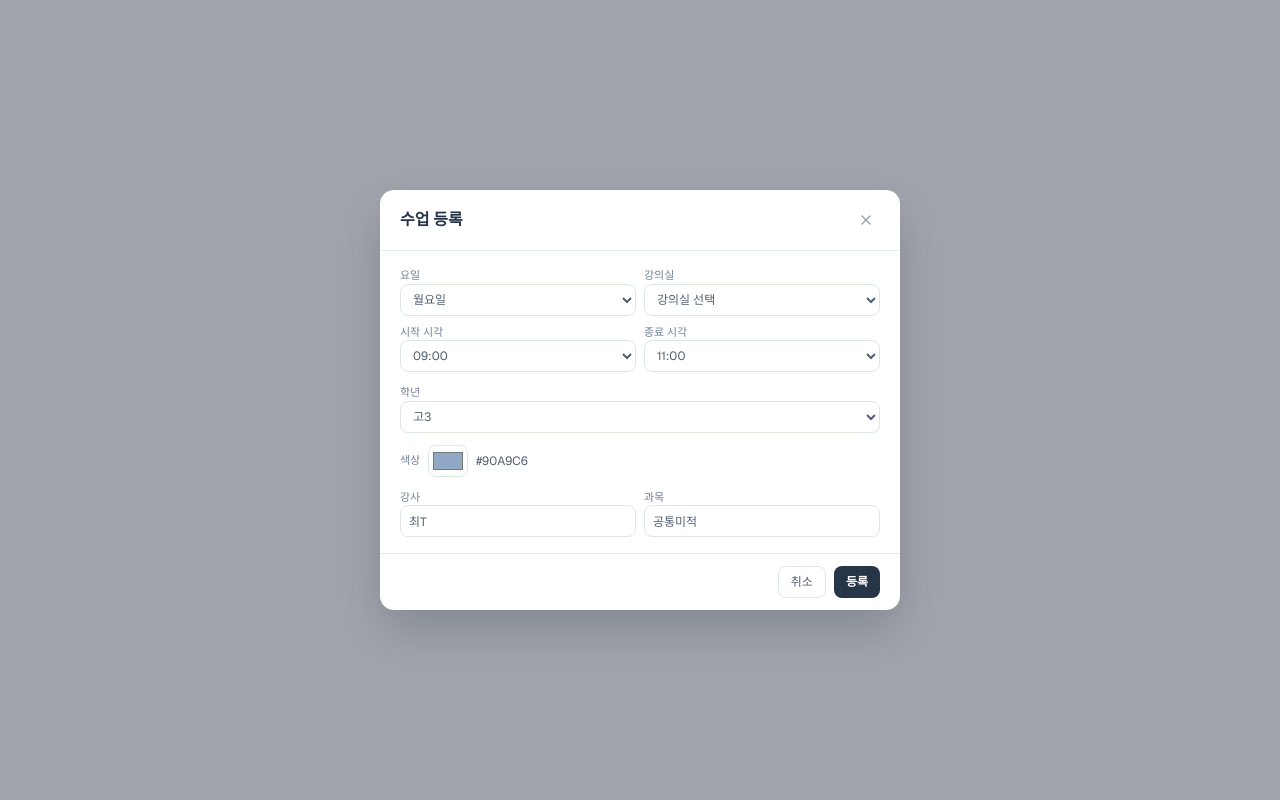
Scenario: ClassRegistrationModal › 강의실을 선택하지 않고 등록하면 에러 메시지를 노출한다
Click the button "등록".
click(857, 582)  # box [834, 566, 880, 598]
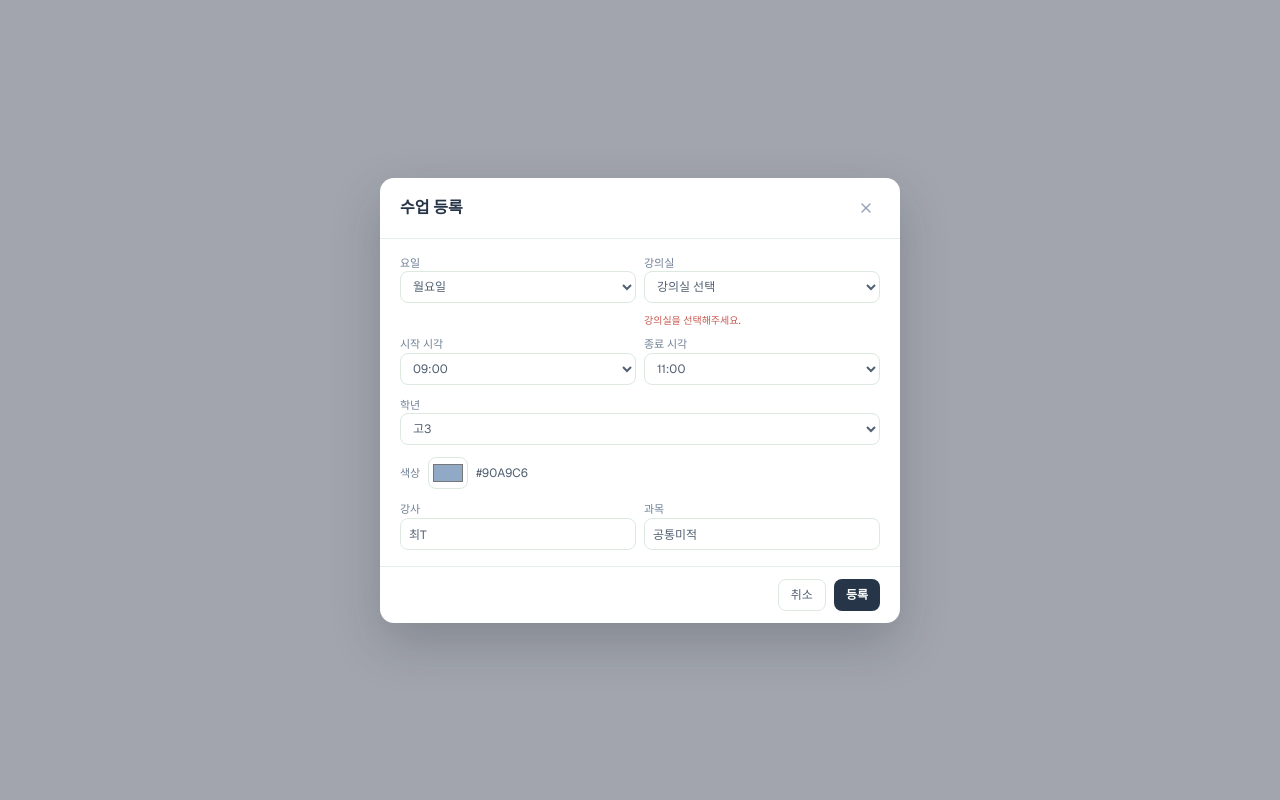
Result: the text "강의실을 선택해주세요." is shown at [644, 314, 741, 327]
